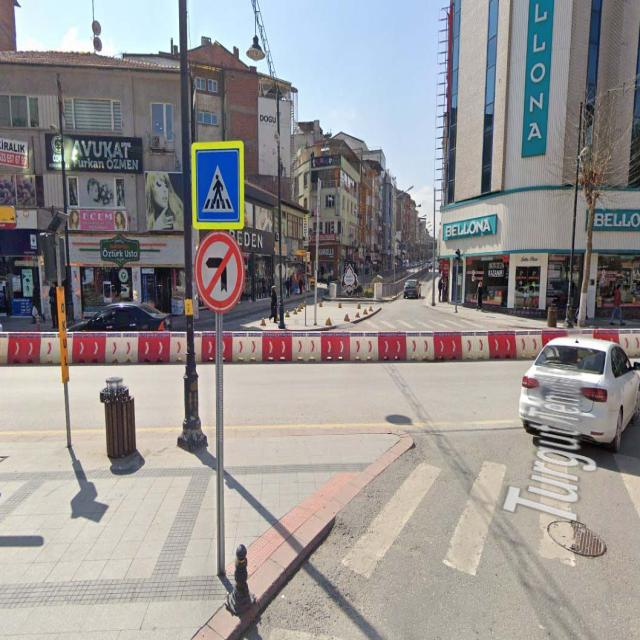soladonulmez: (195, 232, 244, 308)
